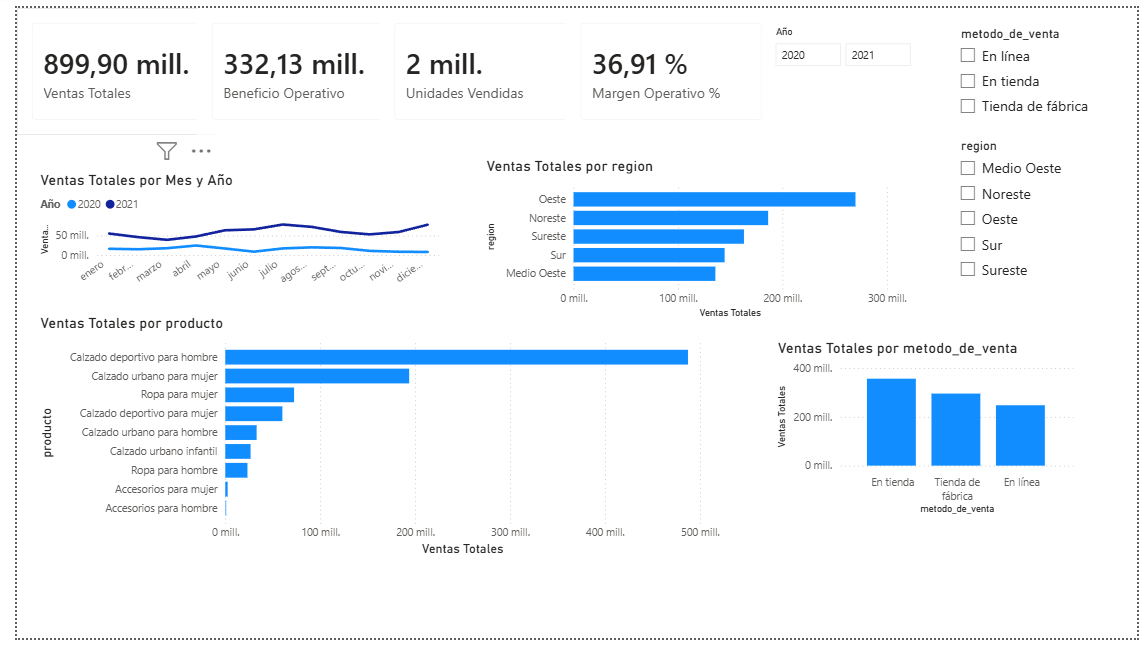

What the dashboard file says about the page in this screenshot:
{"tool":"powerbi","page":{"name":"Ventas","canvas":[1280,720],"ordinal":0},"visuals":[{"type":"cardVisual","fields":{"Data":["Calendario.Ventas Totales"]},"box":[0,0,227.9,145],"z":0},{"type":"cardVisual","fields":{"Data":["Calendario.Beneficio Operativo"]},"box":[205.7,0,241.4,145],"z":1000},{"type":"cardVisual","fields":{"Data":["Calendario.Unidades Vendidas"]},"box":[414.3,0,235.7,145],"z":2000},{"type":"cardVisual","fields":{"Data":["Calendario.Margen Operativo %"]},"box":[626.4,0,241.4,145],"z":3000},{"type":"lineChart","fields":{"Category":["Calendario.Mes"],"Y":["Calendario.Ventas Totales"],"Series":["Calendario.Año"]},"box":[20.9,186.4,466.4,140.9],"z":4000},{"type":"barChart","fields":{"Category":["ventas_adidas.producto"],"Y":["Calendario.Ventas Totales"]},"box":[20.9,350,787.3,281.8],"z":5000},{"type":"barChart","fields":{"Category":["ventas_adidas.region"],"Y":["Calendario.Ventas Totales"]},"box":[531.8,170,490.9,190],"z":6000},{"type":"columnChart","fields":{"Category":["ventas_adidas.metodo_de_venta"],"Y":["Calendario.Ventas Totales"]},"box":[863.6,379.1,348.2,205.5],"z":7000},{"type":"slicer","fields":{"Values":["Calendario.Año"]},"box":[853.6,15.5,179.1,83.6],"z":8000},{"type":"slicer","fields":{"Values":["ventas_adidas.region"]},"box":[1066.4,143.6,179.1,183.6],"z":9000},{"type":"slicer","fields":{"Values":["ventas_adidas.metodo_de_venta"]},"box":[1066.4,15.5,179.1,119.1],"z":10000}]}

Visuals, with their boxes in screenshot pixels (x1, y1, x2, y2), scaled from the page's 1280x720 canvas onto the 1147x647 screenshot:
cardVisual - Calendario.Ventas Totales: select_region(0, 0, 204, 130)
cardVisual - Calendario.Beneficio Operativo: select_region(184, 0, 401, 130)
cardVisual - Calendario.Unidades Vendidas: select_region(371, 0, 582, 130)
cardVisual - Calendario.Margen Operativo %: select_region(561, 0, 778, 130)
lineChart - Calendario.Mes x Calendario.Ventas Totales: select_region(19, 168, 437, 294)
barChart - ventas_adidas.producto x Calendario.Ventas Totales: select_region(19, 315, 724, 568)
barChart - ventas_adidas.region x Calendario.Ventas Totales: select_region(477, 153, 916, 324)
columnChart - ventas_adidas.metodo_de_venta x Calendario.Ventas Totales: select_region(774, 341, 1086, 525)
slicer - Calendario.Año: select_region(765, 14, 925, 89)
slicer - ventas_adidas.region: select_region(956, 129, 1116, 294)
slicer - ventas_adidas.metodo_de_venta: select_region(956, 14, 1116, 121)
